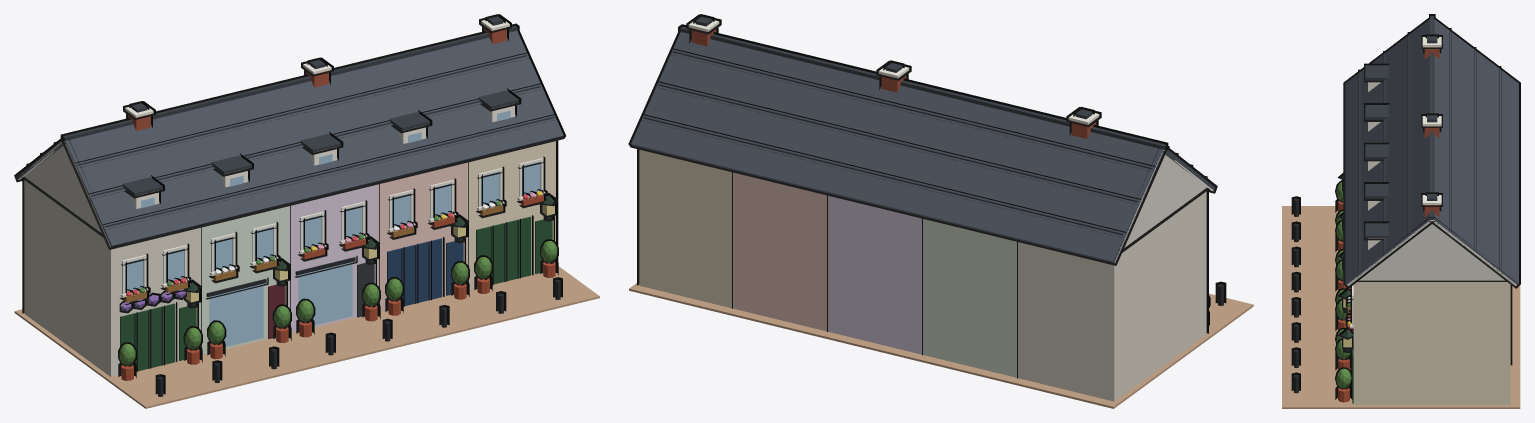
Rendered from Konut_ref_mews.fbx.
3 views of the same model, side by side, from view 1: azimuth 30°, elevation 25°; view 2: azimuth 150°, elevation 25°; view 3: azimuth 270°, elevation 25° (orthographic). The views are drawn at different scales.
Visible parts, largest first — view 1: Konut_ref_mews; view 2: Konut_ref_mews; view 3: Konut_ref_mews.
Boxes of the visible parts, bbox=[...] form: Konut_ref_mews: bbox=[14, 14, 599, 408]; Konut_ref_mews: bbox=[628, 14, 1253, 408]; Konut_ref_mews: bbox=[1282, 14, 1520, 408].
Size of the model in its own units: 20.06 by 9.46 by 10.02.
